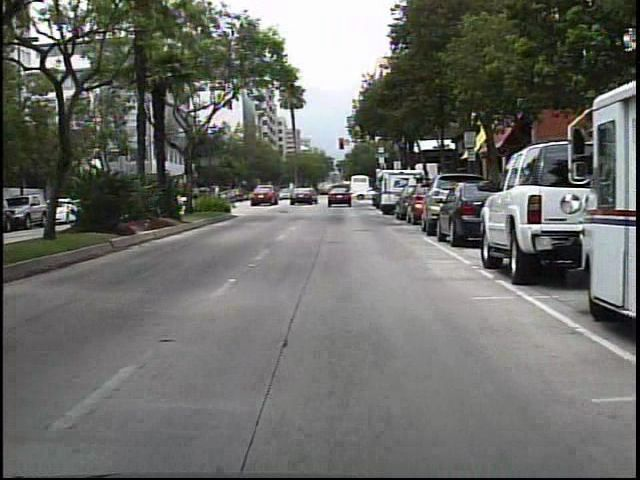person: (336, 181, 352, 203), (306, 184, 319, 205)
